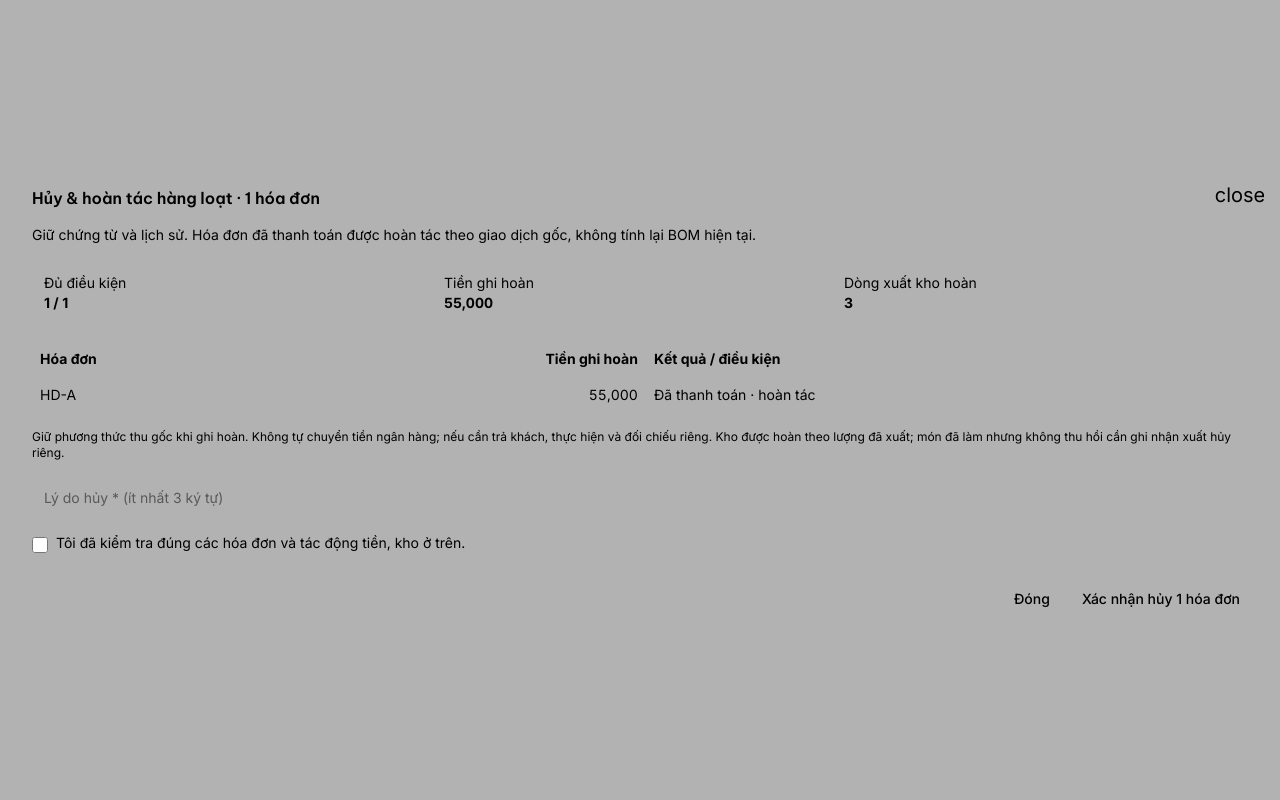
bulk invoice confirmation › requires both reason and acknowledgement; blocks duplicate clicks
Expected: the button "Xác nhận hủy 1 hóa đơn" is disabled, [1070,581,1252,617]
Type "Nhập sai" into the field named "Lý do hủy hàng loạt" at {"x": 640, "y": 497}, box [32,477,1248,517]
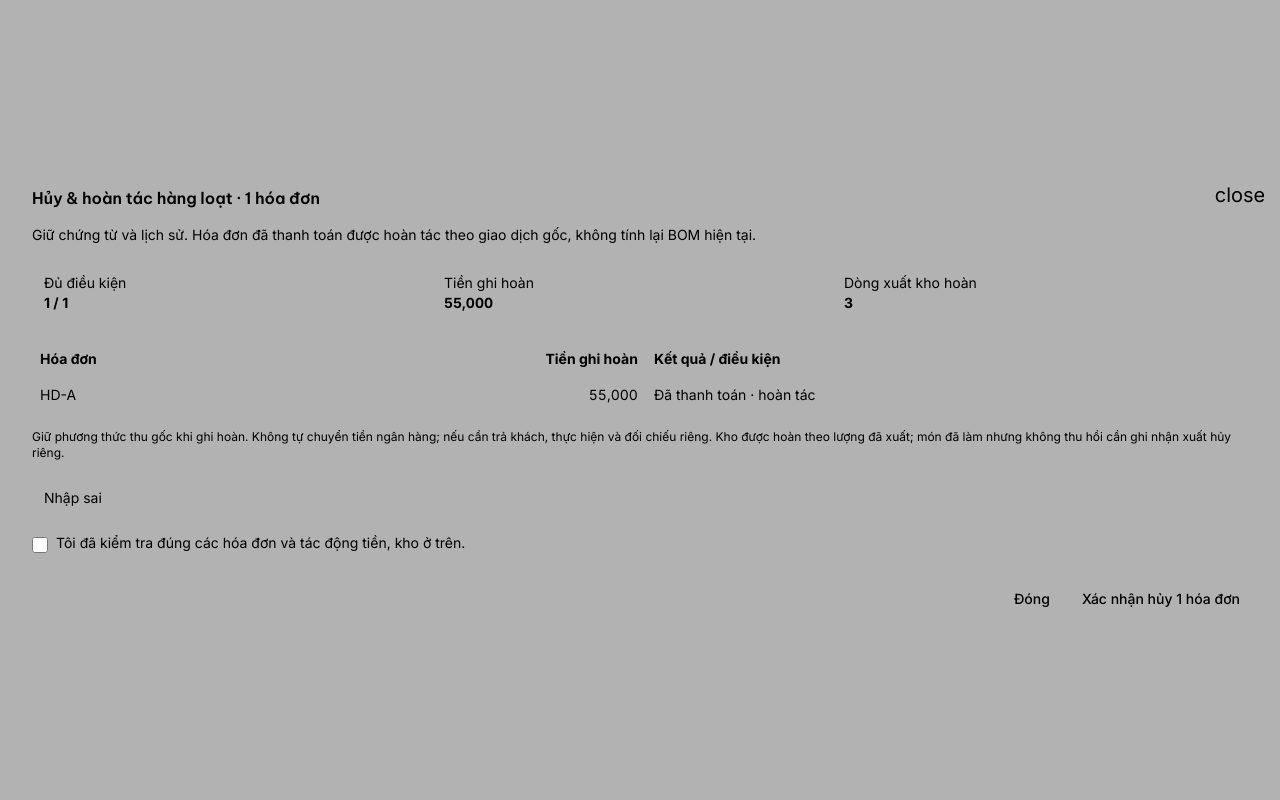
Expected: the button "Xác nhận hủy 1 hóa đơn" is disabled, [1070,581,1252,617]
Click the checkbox at {"x": 40, "y": 545}, box [32,537,48,553]
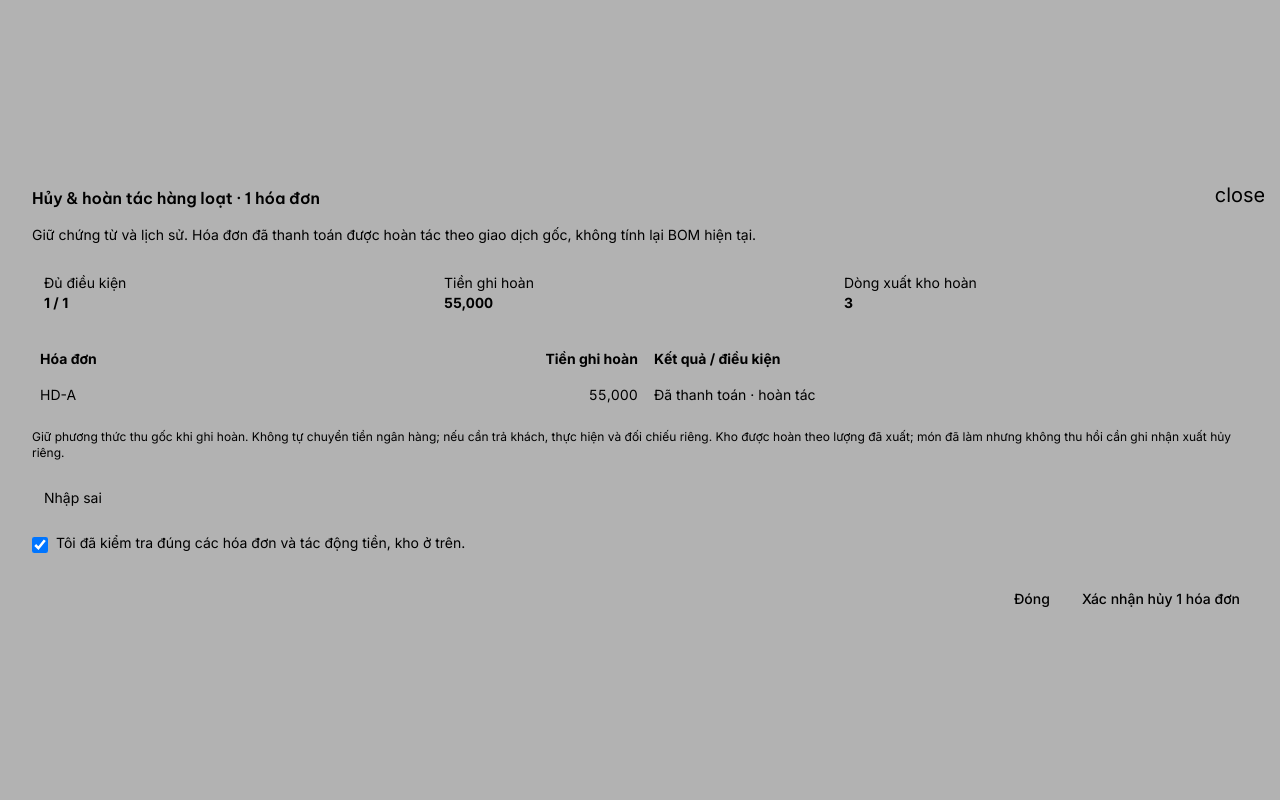
Click the button "Xác nhận hủy 1 hóa đơn" at {"x": 1161, "y": 599}, box [1070,581,1252,617]
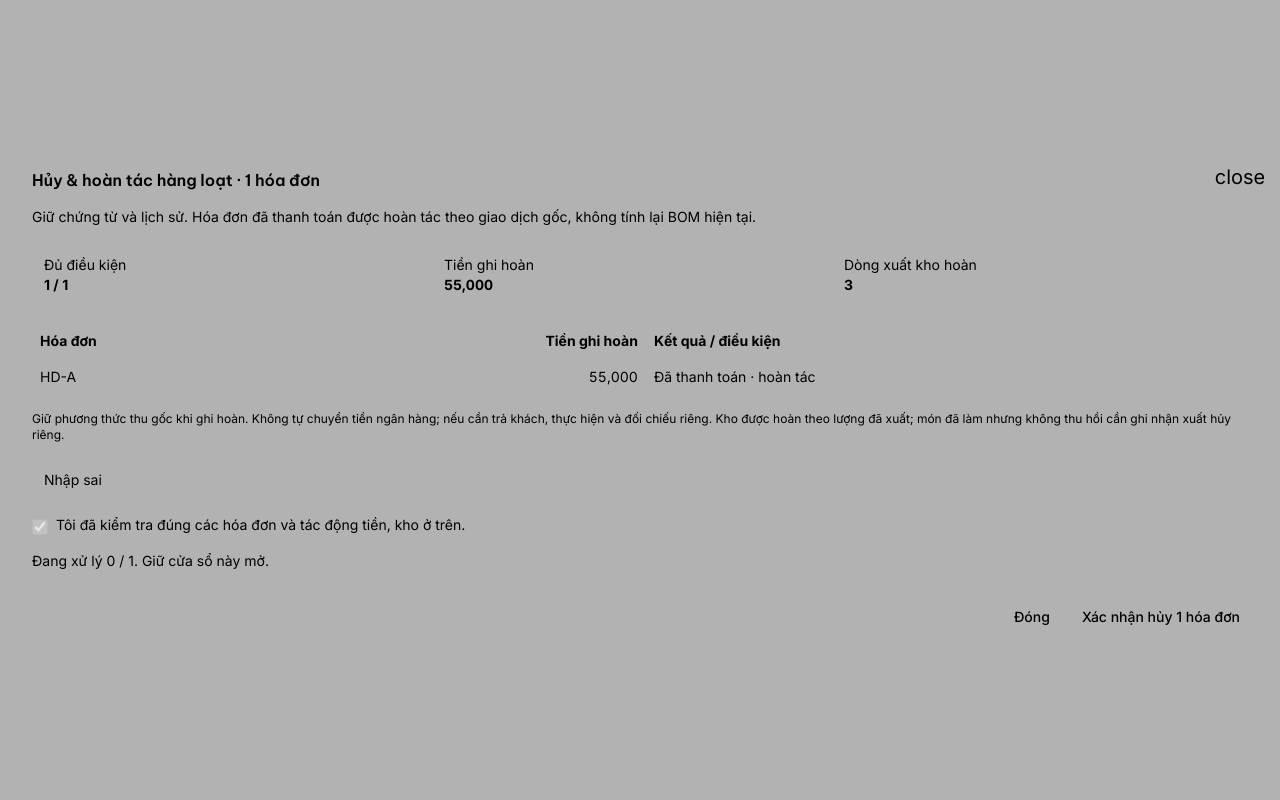
Click the button "Xác nhận hủy 1 hóa đơn" at {"x": 1161, "y": 617}, box [1070,599,1252,635]
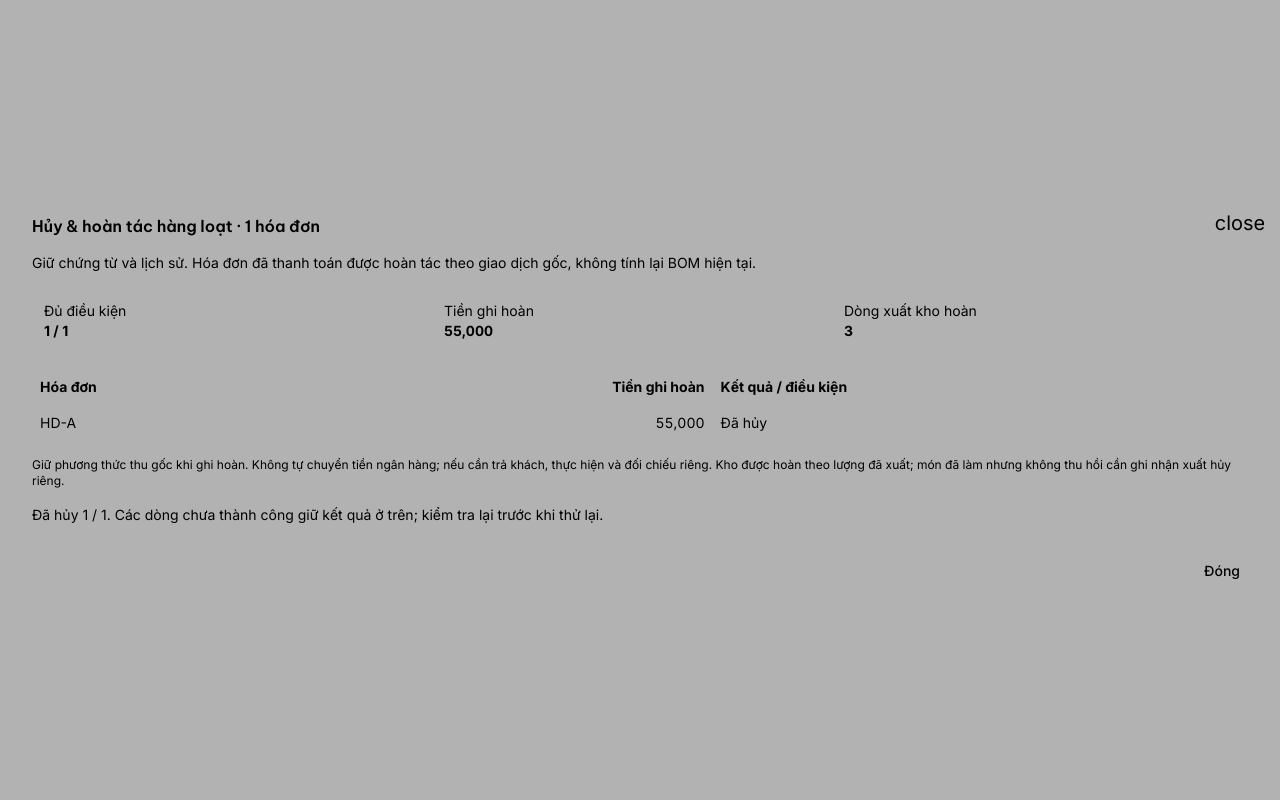
Expected: the button "Xác nhận hủy" is gone
